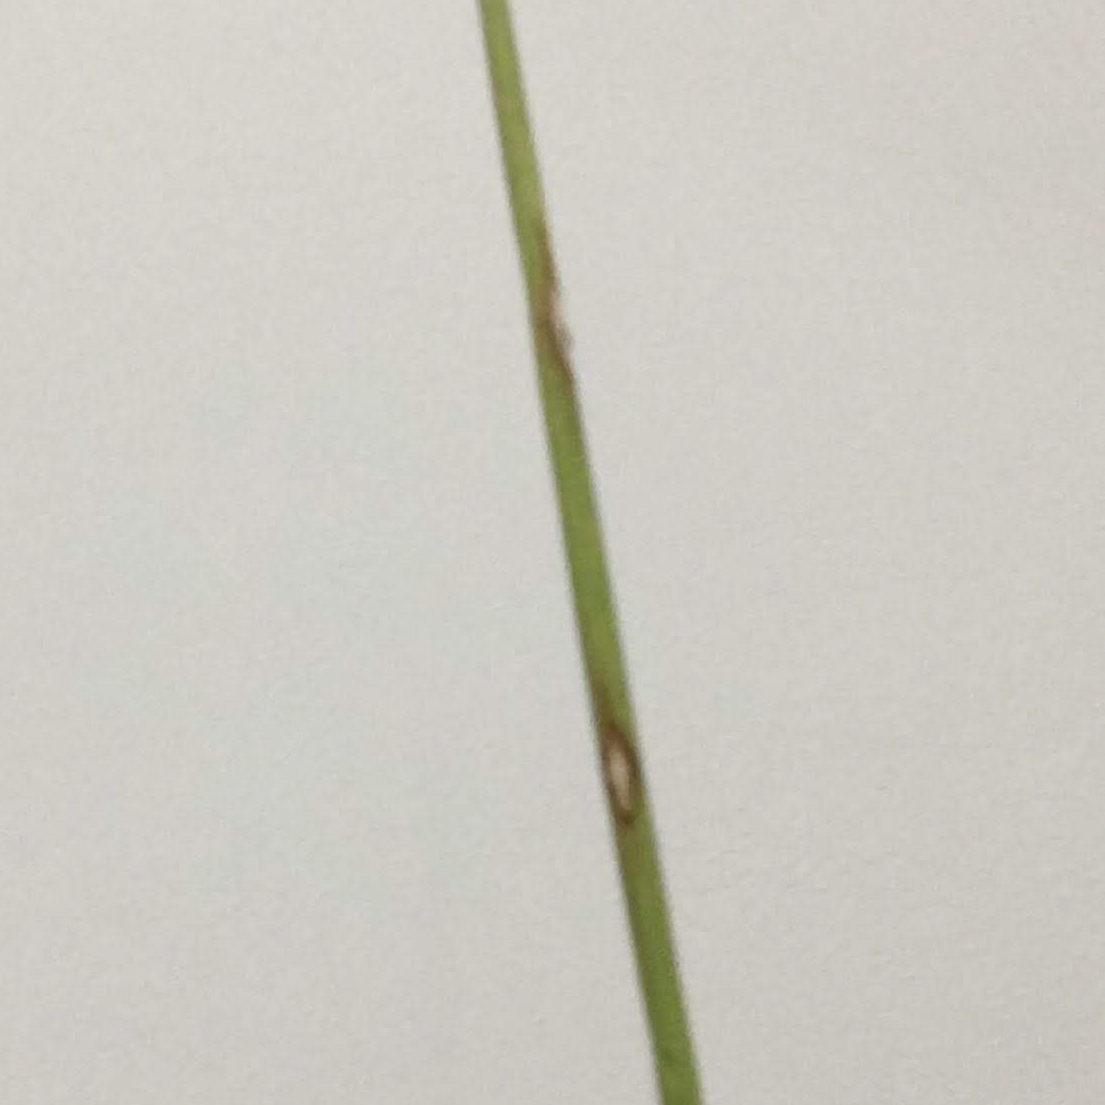leaf blast: (469, 1, 714, 1105)
